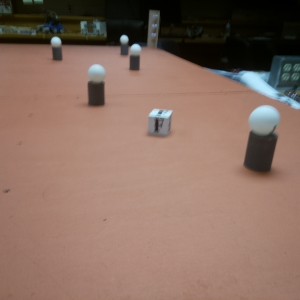obstacle: (245, 106, 280, 176), (86, 63, 106, 107), (49, 34, 65, 63), (128, 44, 143, 73), (120, 33, 130, 54)
